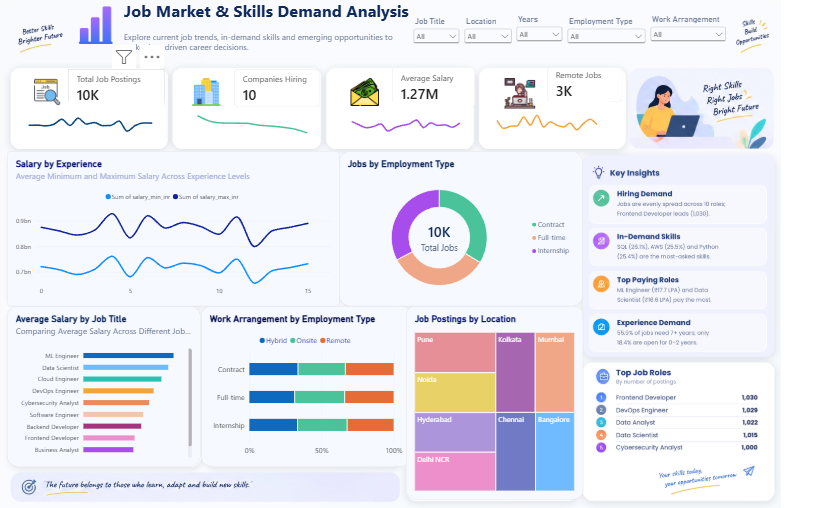

Layout of this report page (visuals, bound fields, positions):
{"tool":"powerbi","page":{"name":"Page 1","canvas":[1920,1080],"ordinal":0},"visuals":[{"type":"textbox","box":[434.2,19.4,561.6,62.6],"z":0},{"type":"textbox","box":[434.2,82.1,561.6,58.3],"z":1000},{"type":"textbox","box":[1283,51.8,116.6,60.5],"z":2000},{"type":"slicer","fields":{"Values":["job_market_analysis job_market_data.job_title"]},"box":[997.5,52.5,100,60],"z":3000},{"type":"slicer","fields":{"Values":["job_market_analysis job_market_data.location"]},"box":[1097.5,52.5,102.5,60],"z":4000},{"type":"slicer","fields":{"Values":["job_market_analysis job_market_data.experience_required_years"]},"box":[1200,50,100,62.5],"z":5000},{"type":"slicer","fields":{"Values":["job_market_analysis job_market_data.employment_type"]},"box":[1300,52.5,162.5,60],"z":6000},{"type":"slicer","fields":{"Values":["job_market_analysis job_market_data.remote_option"]},"box":[1462.5,50,157.5,60],"z":7000},{"type":"image","box":[324,32.4,110.2,77.8],"z":8000},{"type":"cardVisual","fields":{"Data":["job_market_analysis job_market_data.Total Job Postings"]},"box":[324,157.7,190.1,75.6],"z":9000},{"type":"lineChart","fields":{"Category":["job_market_analysis job_market_data.experience_required_years"],"Y":["CountNonNull(job_market_analysis job_market_data.job_id)"]},"box":[221.7,221.7,292.3,80.6],"z":10000},{"type":"cardVisual","fields":{"Data":["job_market_analysis job_market_data.Companies Hiring"]},"box":[650.2,157.7,168.5,75.6],"z":11000},{"type":"lineChart","fields":{"Category":["job_market_analysis job_market_data.company_name"],"Y":["CountNonNull(job_market_analysis job_market_data.job_id)"]},"box":[554.3,221.7,264.6,83.1],"z":12000},{"type":"image","box":[561.9,173.9,68,55.4],"z":13000},{"type":"cardVisual","fields":{"Data":["job_market_analysis job_market_data.Average Salary"]},"box":[960,153.7,163.8,80.6],"z":14000},{"type":"lineChart","fields":{"Category":["job_market_analysis job_market_data.experience_required_years"],"Y":["Avg(job_market_analysis job_market_data.Salary_Midpoint)"]},"box":[856.7,221.7,262,83.1],"z":15000},{"type":"image","box":[876.9,173.9,58,55.4],"z":16000},{"type":"cardVisual","fields":{"Data":["job_market_analysis job_market_data.Remote Jobs"]},"box":[1264.9,153.7,148.7,68],"z":17000},{"type":"lineChart","fields":{"Category":["job_market_analysis job_market_data.experience_required_years"],"Y":["CountNonNull(job_market_analysis job_market_data.job_id)"]},"box":[1141.4,219.2,246.9,83.1],"z":18000},{"type":"donutChart","title":"Jobs by Employment Type","fields":{"Category":["job_market_analysis job_market_data.employment_type"],"Y":["CountNonNull(job_market_analysis job_market_data.job_id)"]},"box":[856.7,317.5,478.7,304.9],"z":20000},{"type":"clusteredBarChart","title":"Average Salary by Job Title","fields":{"Category":["job_market_analysis job_market_data.job_title"],"Y":["Avg(job_market_analysis job_market_data.Salary_Midpoint)"]},"box":[204.1,622.4,380.5,315],"z":21000},{"type":"hundredPercentStackedBarChart","title":"Work Arrangement by Employment Type","fields":{"Category":["job_market_analysis job_market_data.employment_type"],"Series":["job_market_analysis job_market_data.remote_option"],"Y":["Count(job_market_analysis job_market_data.job_id)"]},"box":[584.6,622.4,413.2,315],"z":22000},{"type":"image","box":[241.9,173.9,83.1,55.4],"z":23000},{"type":"image","box":[1171.7,173.9,78.1,60.5],"z":24000},{"type":"textbox","box":[55,0,150,150],"z":24001},{"type":"lineChart","title":"Salary by Experience","fields":{"Category":["job_market_analysis job_market_data.experience_required_years"],"Y":["Sum(job_market_analysis job_market_data.salary_min_inr)","Sum(job_market_analysis job_market_data.salary_max_inr)"]},"box":[204.1,317.5,652.6,304.9],"z":24002},{"type":"treemap","title":"Job Postings by Location","fields":{"Group":["job_market_analysis job_market_data.location"],"Values":["CountNonNull(job_market_analysis job_market_data.job_id)"]},"box":[987.7,622.4,347.7,380.5],"z":24003}]}

Visuals, with their boxes on the page's 1920x1080 design canvas (x1, y1, x2, y2). These are canvas units, not pixel positions in the 819x508 screenshot, which may show the page scaled, cropped or inside an application window:
textbox: {"left": 434, "top": 19, "right": 996, "bottom": 82}
textbox: {"left": 434, "top": 82, "right": 996, "bottom": 140}
textbox: {"left": 1283, "top": 52, "right": 1400, "bottom": 112}
slicer - job_market_analysis job_market_data.job_title: {"left": 998, "top": 52, "right": 1098, "bottom": 112}
slicer - job_market_analysis job_market_data.location: {"left": 1098, "top": 52, "right": 1200, "bottom": 112}
slicer - job_market_analysis job_market_data.experience_required_years: {"left": 1200, "top": 50, "right": 1300, "bottom": 112}
slicer - job_market_analysis job_market_data.employment_type: {"left": 1300, "top": 52, "right": 1462, "bottom": 112}
slicer - job_market_analysis job_market_data.remote_option: {"left": 1462, "top": 50, "right": 1620, "bottom": 110}
image: {"left": 324, "top": 32, "right": 434, "bottom": 110}
cardVisual - job_market_analysis job_market_data.Total Job Postings: {"left": 324, "top": 158, "right": 514, "bottom": 233}
lineChart - job_market_analysis job_market_data.experience_required_years x CountNonNull(job_market_analysis job_market_data.job_id): {"left": 222, "top": 222, "right": 514, "bottom": 302}
cardVisual - job_market_analysis job_market_data.Companies Hiring: {"left": 650, "top": 158, "right": 819, "bottom": 233}
lineChart - job_market_analysis job_market_data.company_name x CountNonNull(job_market_analysis job_market_data.job_id): {"left": 554, "top": 222, "right": 819, "bottom": 305}
image: {"left": 562, "top": 174, "right": 630, "bottom": 229}
cardVisual - job_market_analysis job_market_data.Average Salary: {"left": 960, "top": 154, "right": 1124, "bottom": 234}
lineChart - job_market_analysis job_market_data.experience_required_years x Avg(job_market_analysis job_market_data.Salary_Midpoint): {"left": 857, "top": 222, "right": 1119, "bottom": 305}
image: {"left": 877, "top": 174, "right": 935, "bottom": 229}
cardVisual - job_market_analysis job_market_data.Remote Jobs: {"left": 1265, "top": 154, "right": 1414, "bottom": 222}
lineChart - job_market_analysis job_market_data.experience_required_years x CountNonNull(job_market_analysis job_market_data.job_id): {"left": 1141, "top": 219, "right": 1388, "bottom": 302}
"Jobs by Employment Type" donutChart: {"left": 857, "top": 318, "right": 1335, "bottom": 622}
"Average Salary by Job Title" clusteredBarChart: {"left": 204, "top": 622, "right": 585, "bottom": 937}
"Work Arrangement by Employment Type" hundredPercentStackedBarChart: {"left": 585, "top": 622, "right": 998, "bottom": 937}
image: {"left": 242, "top": 174, "right": 325, "bottom": 229}
image: {"left": 1172, "top": 174, "right": 1250, "bottom": 234}
textbox: {"left": 55, "top": 0, "right": 205, "bottom": 150}
"Salary by Experience" lineChart: {"left": 204, "top": 318, "right": 857, "bottom": 622}
"Job Postings by Location" treemap: {"left": 988, "top": 622, "right": 1335, "bottom": 1003}
